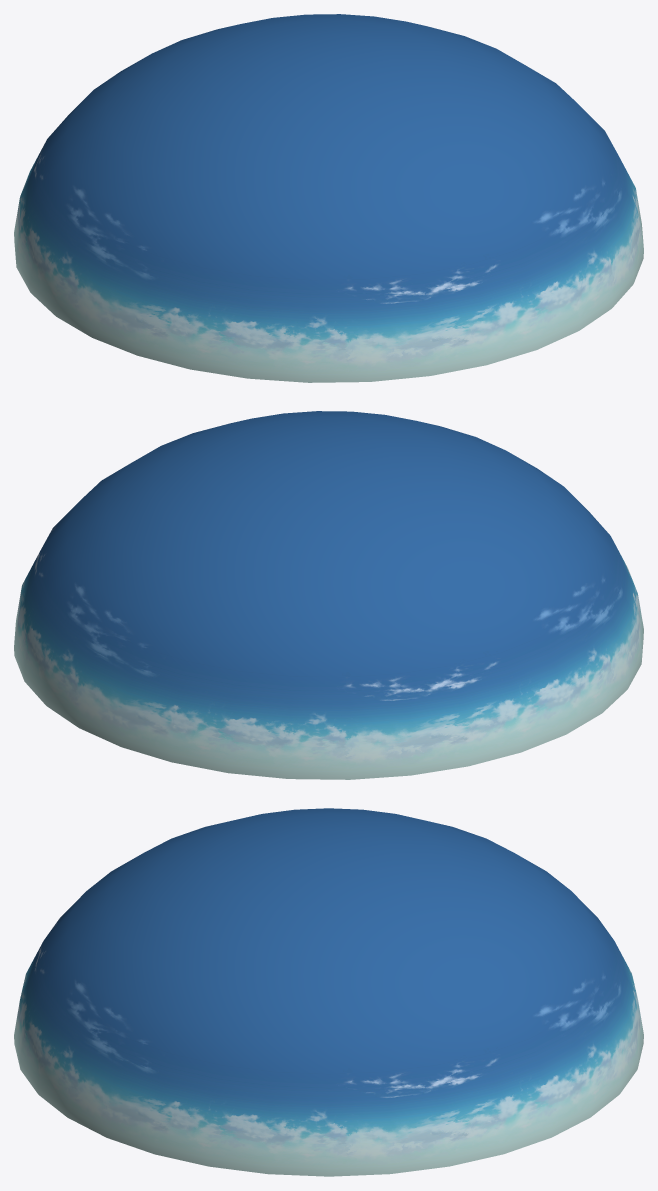
Rendered from stage_sd08a.glb.
3 renders of one model, top to bottom at view 1: azimuth 30°, elevation 25°; view 2: azimuth 150°, elevation 25°; view 3: azimuth 270°, elevation 25°, orthographic.
Parts seen in each view (by area): view 1: sd08abac001; view 2: sd08abac001; view 3: sd08abac001.
Part boxes in pixels (bbox=[...]): sd08abac001: bbox=[14, 14, 643, 382]; sd08abac001: bbox=[14, 411, 643, 779]; sd08abac001: bbox=[14, 808, 643, 1176].
Size of the model in its own units: 7120 by 2400 by 7120.
Materials: 31 (31 with a texture image).
